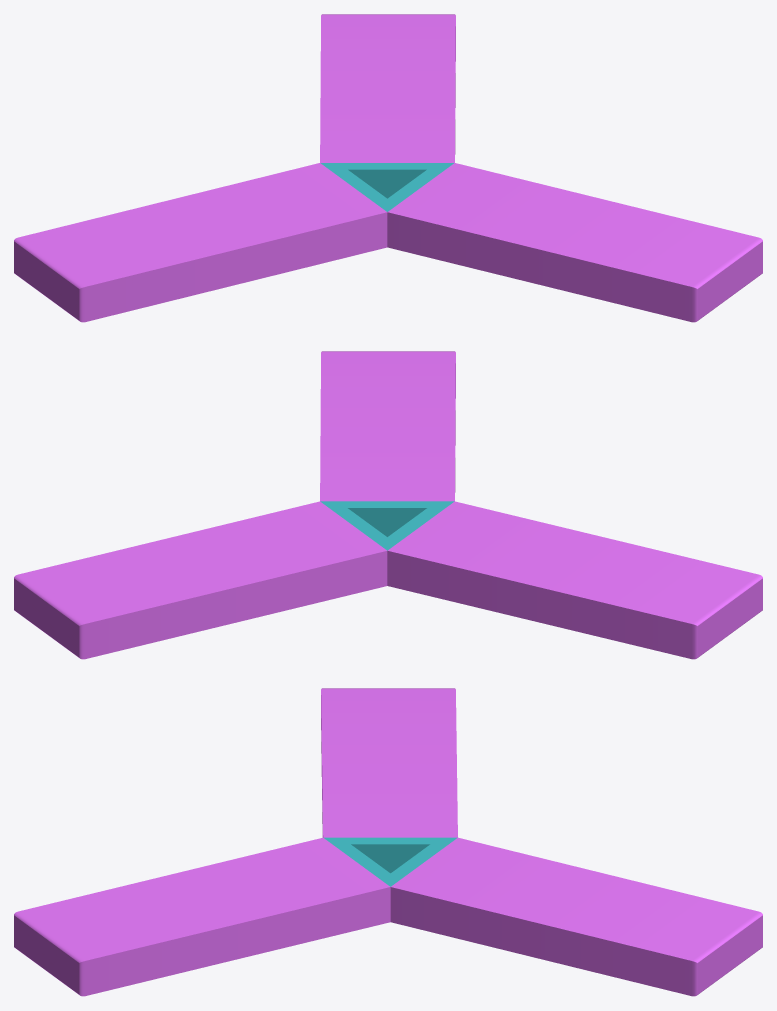
The model's file is Fan.fbx.
3 views of the same model, one above another, from view 1: azimuth 30°, elevation 25°; view 2: azimuth 150°, elevation 25°; view 3: azimuth 270°, elevation 25° (orthographic).
Parts seen in each view (by area): view 1: Fan; view 2: Fan; view 3: Fan.
Part boxes in pixels (x1,y1,x2,y2): Fan: (14, 14, 762, 322); Fan: (14, 351, 762, 659); Fan: (14, 688, 762, 996).
Size of the model in its own units: 1668 by 100 by 1925.
